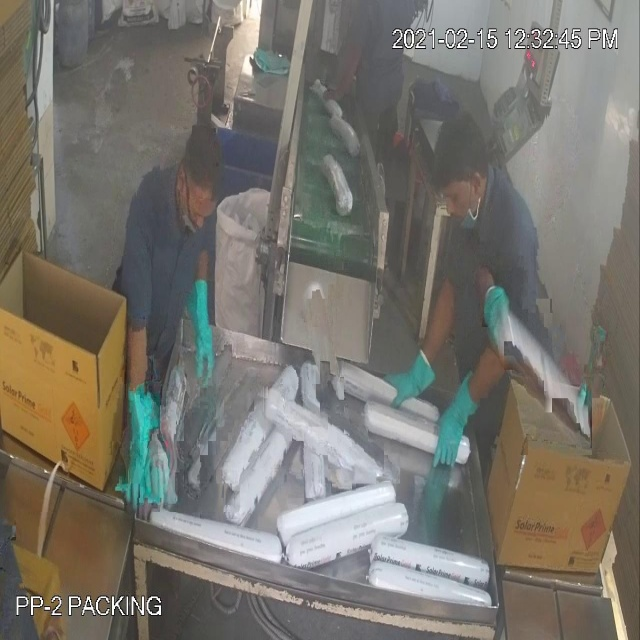Guantes: (370, 333, 441, 420), (179, 260, 220, 405), (427, 372, 479, 482)
Sin_guantes: (322, 36, 368, 129)
